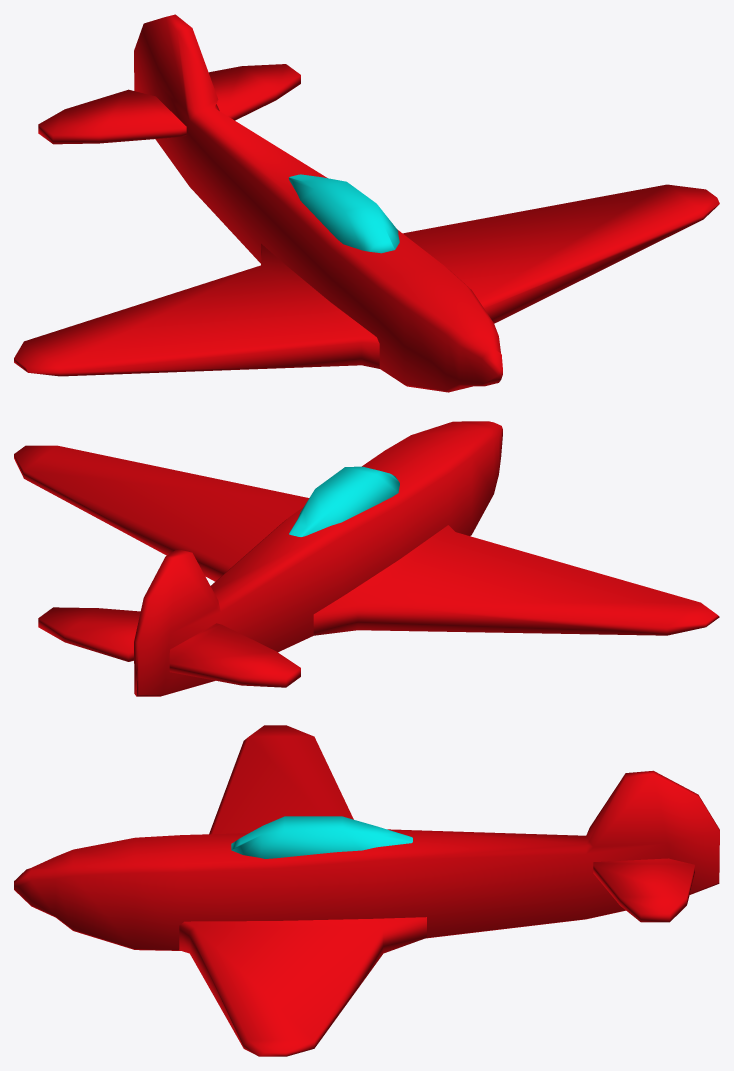
File: fighter.glb
3 renders of one model, top to bottom at view 1: azimuth 30°, elevation 25°; view 2: azimuth 150°, elevation 25°; view 3: azimuth 270°, elevation 25°, orthographic. The views are drawn at different scales.
Visible parts, largest first — view 1: F Wing, F Fuselage, F Tail, F Cockpit; view 2: F Wing, F Fuselage, F Tail, F Cockpit; view 3: F Fuselage, F Wing, F Cockpit, F Tail.
Part boxes in pixels (x1,y1,x2,y2): F Wing: (14,184,719,376); F Fuselage: (134,14,502,392); F Tail: (38,64,300,144); F Cockpit: (289,174,399,253); F Wing: (14,445,719,635); F Fuselage: (134,421,502,696); F Tail: (38,607,300,687); F Cockpit: (289,466,399,536); F Fuselage: (14,770,719,950); F Wing: (179,725,427,1056); F Cockpit: (231,816,412,858); F Tail: (593,858,694,922).
Size of the model in its own units: 6.98 by 1.61 by 6.36.
